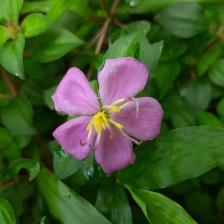malabar melastome: (54, 57, 167, 175)
